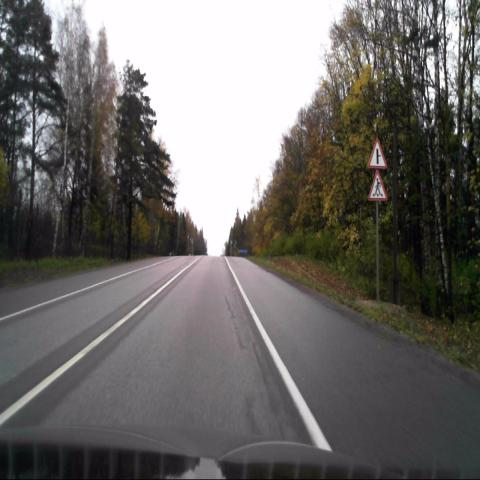2_3_2: (368, 139, 387, 169)
